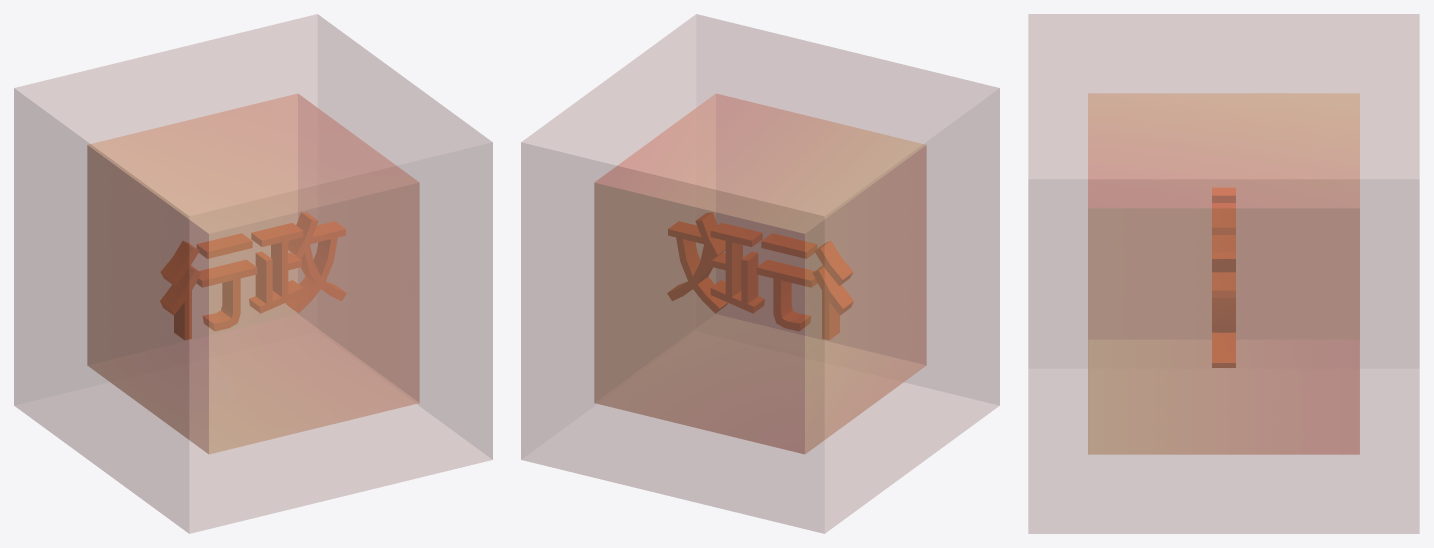
The picture shows the model from 3 angles, left to right: view 1: azimuth 30°, elevation 25°; view 2: azimuth 150°, elevation 25°; view 3: azimuth 270°, elevation 25°; orthographic projection. The views are drawn at different scales.
Visible parts, largest first — view 1: Box012, 行政002, Text004; view 2: Box012, 行政002, Text004; view 3: Box012, 行政002, Text004.
Part boxes in pixels (<box>): Box012: <box>14,14,492,533</box>; 行政002: <box>87,93,419,454</box>; Text004: <box>160,212,346,339</box>; Box012: <box>521,14,999,533</box>; 行政002: <box>594,93,926,454</box>; Text004: <box>667,212,853,339</box>; Box012: <box>1028,14,1419,533</box>; 行政002: <box>1088,93,1359,454</box>; Text004: <box>1212,188,1235,367</box>.
Size of the model in its own units: 0.6451 by 0.6451 by 0.6451.
Materials: 3 (2 with a texture image).
